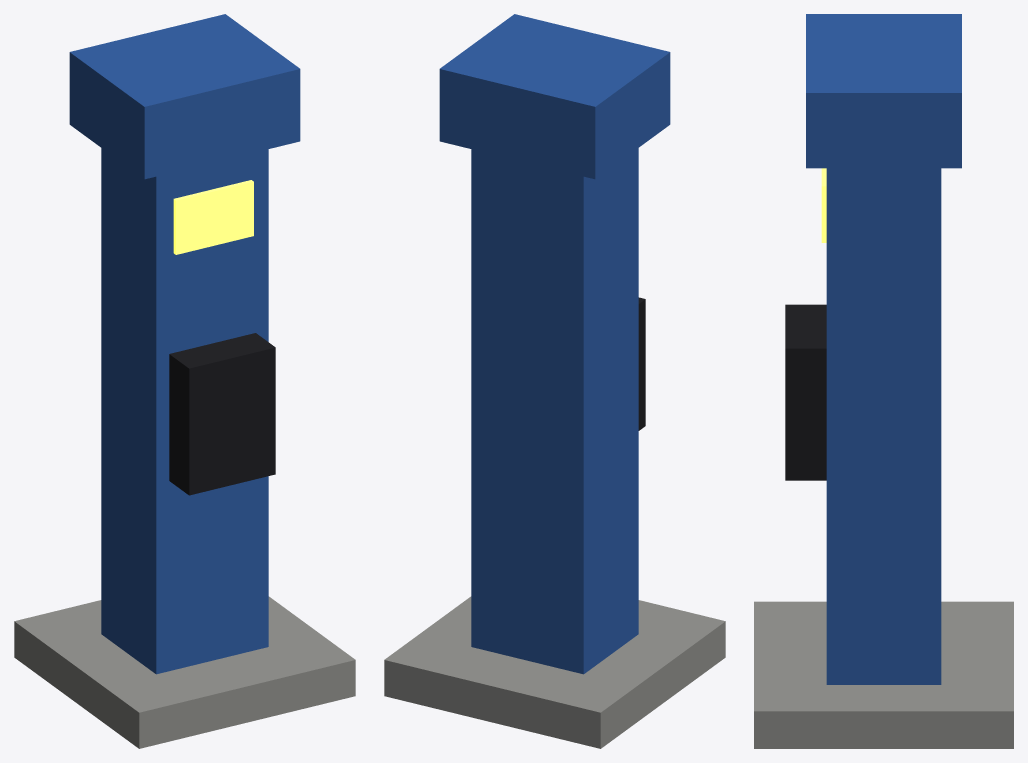
File: pos-calibrador.gltf
3 views of the same model, side by side, from view 1: azimuth 30°, elevation 25°; view 2: azimuth 150°, elevation 25°; view 3: azimuth 270°, elevation 25° (orthographic). The views are drawn at different scales.
Parts seen in each view (by area): view 1: pos-calibrador; view 2: pos-calibrador; view 3: pos-calibrador.
Part boxes in pixels (x1,y1,x2,y2): pos-calibrador: (14, 14, 355, 748); pos-calibrador: (384, 14, 725, 748); pos-calibrador: (754, 14, 1013, 748).
Size of the model in its own units: 0.5 by 1.36 by 0.5.
